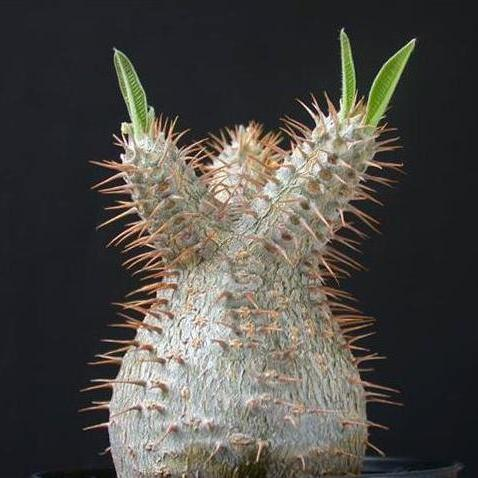Pachypodium rosulatum: (77, 23, 425, 471)
